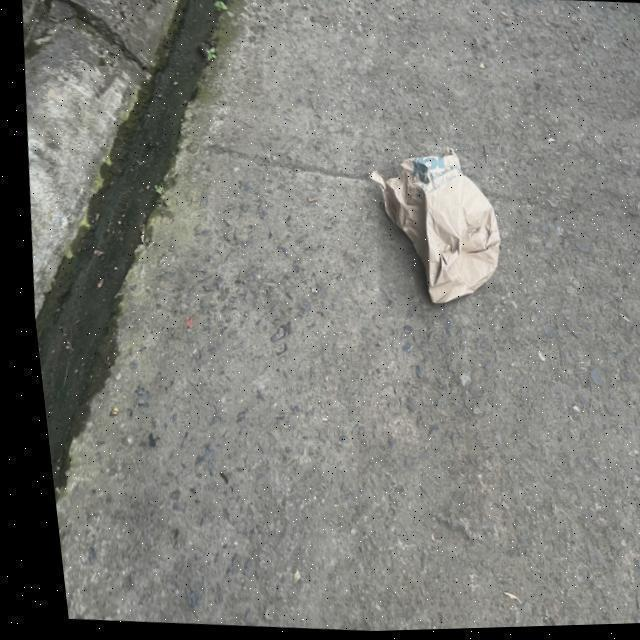Paper_Bag: (354, 146, 504, 310)
